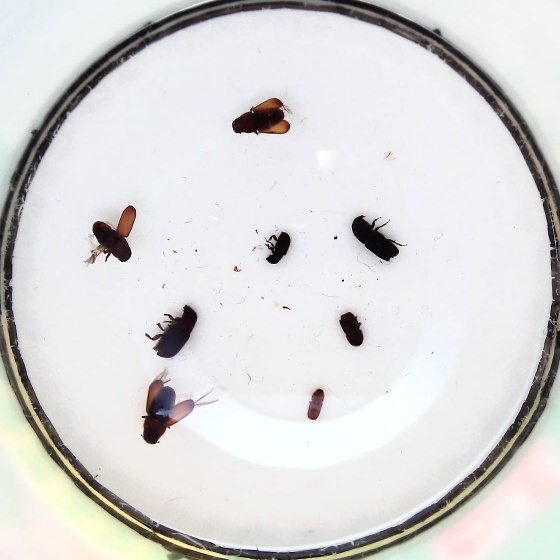acuminatus: (305, 386, 324, 421)
armandi: (264, 230, 290, 265)
boerner: (347, 213, 401, 262)
leconte: (139, 375, 197, 446), (148, 303, 200, 358), (90, 206, 137, 262), (231, 97, 292, 136)
linnaeus: (338, 309, 365, 351)
